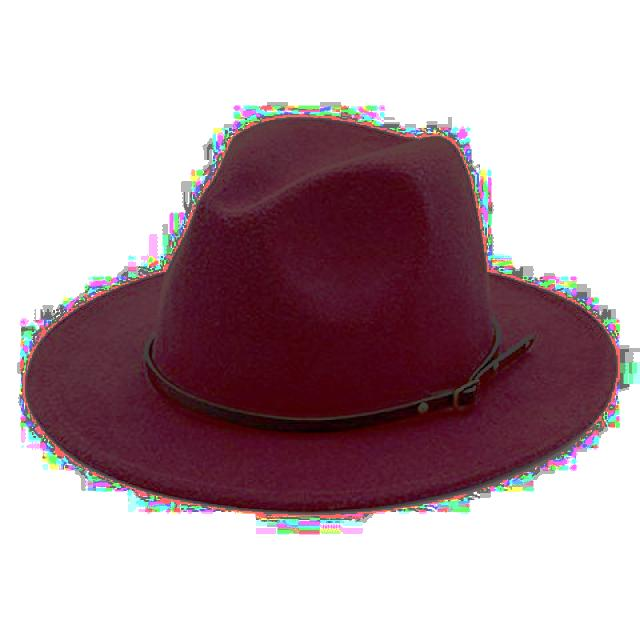TOPI: (19, 112, 624, 519)
